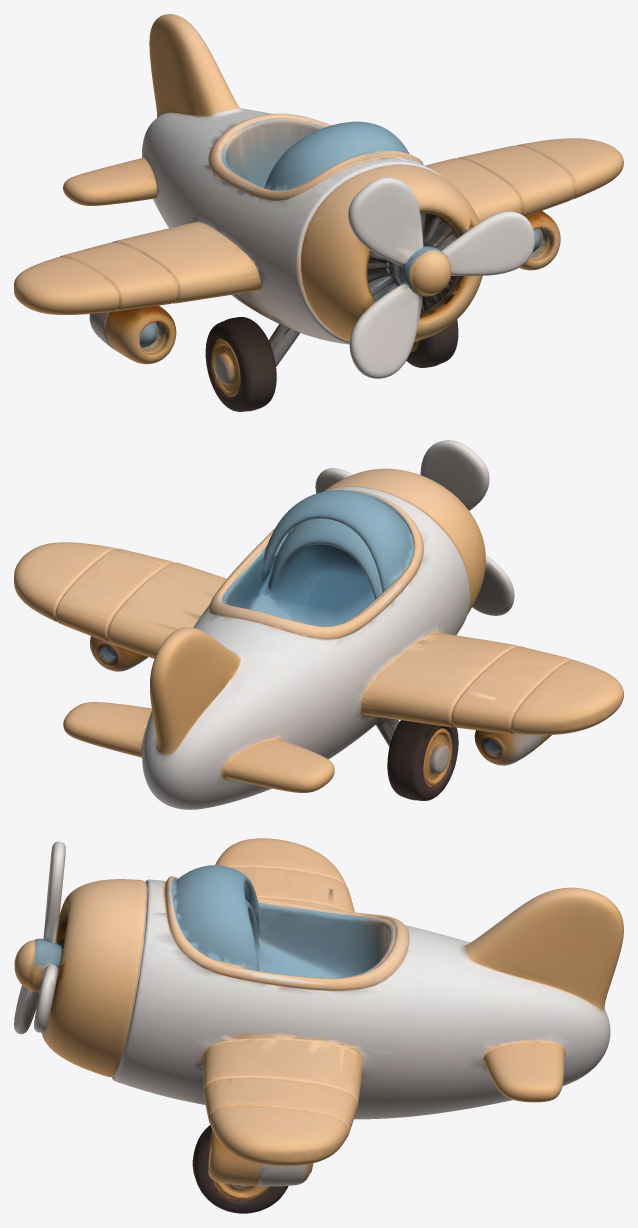
Rendered from cute_plane_1-transformed.glb.
3 views of the same model, one above another, from view 1: azimuth 30°, elevation 25°; view 2: azimuth 150°, elevation 25°; view 3: azimuth 270°, elevation 25° (orthographic). The views are drawn at different scales.
Parts seen in each view (by area): view 1: node_0; view 2: node_0; view 3: node_0.
Part boxes in pixels (bbox=[...]): node_0: bbox=[14, 14, 623, 411]; node_0: bbox=[14, 440, 623, 809]; node_0: bbox=[14, 838, 623, 1213].
Size of the model in its own units: 1.19 by 0.5323 by 0.984.
1 material, 1 textured.
